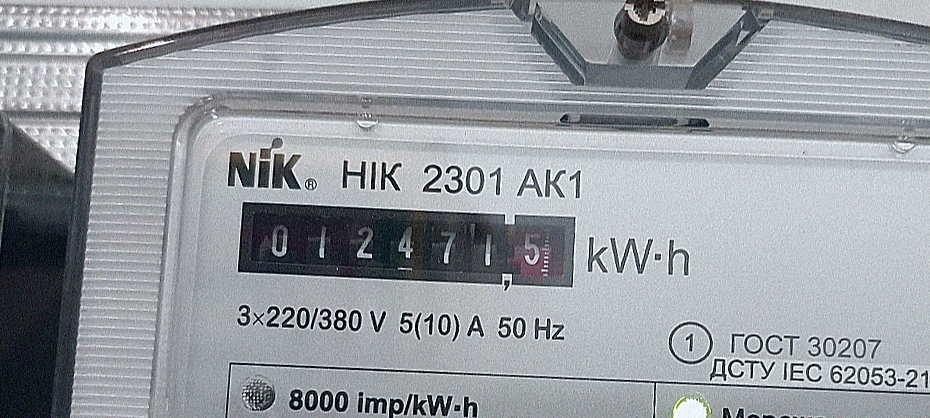0: (265, 220, 291, 258)
1: (479, 230, 493, 267), (314, 223, 328, 259)
2: (353, 223, 376, 260)
4: (394, 222, 415, 260)
5: (519, 227, 543, 267)
7: (433, 226, 456, 266)
screen: (225, 183, 589, 304)
